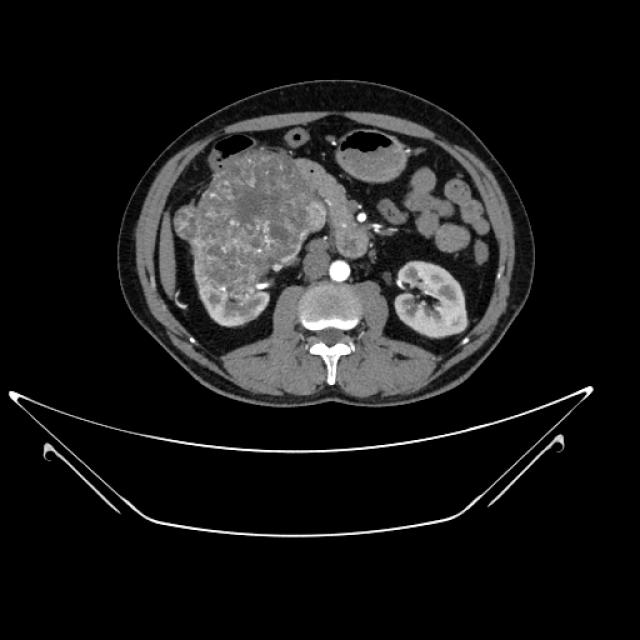Tumor: (186, 143, 326, 320)
